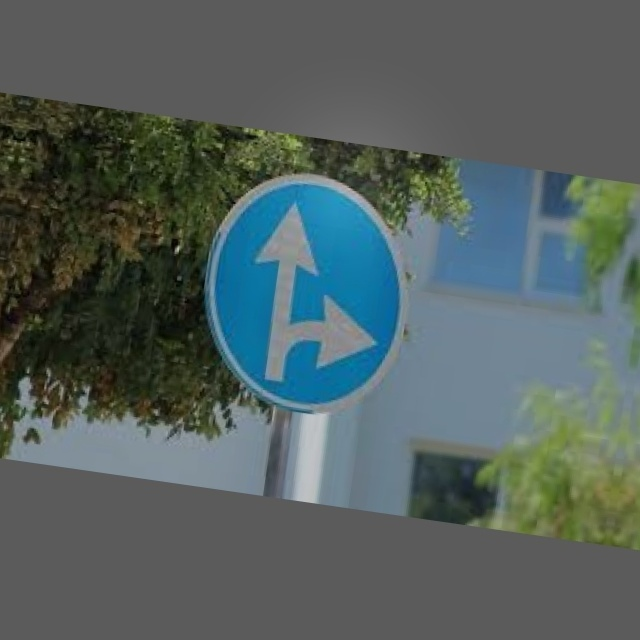Compulsory_Ahead_or_Turn_Right: (194, 162, 429, 427)
